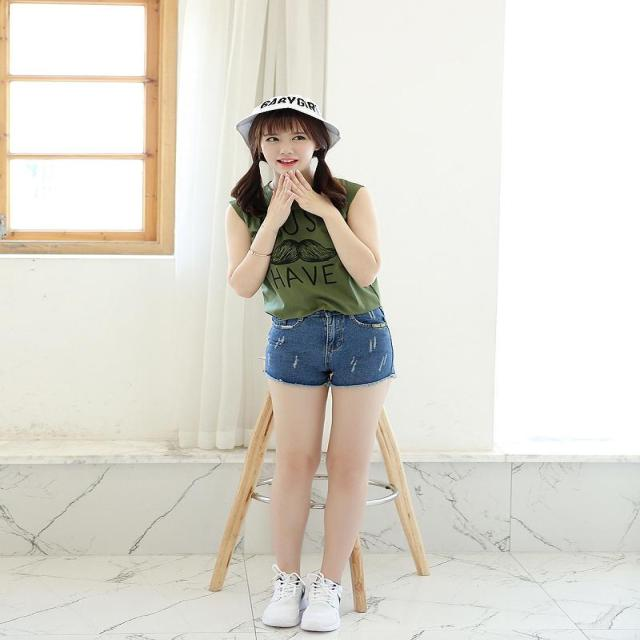shorts: (267, 299, 389, 384)
vest: (231, 179, 380, 316)
